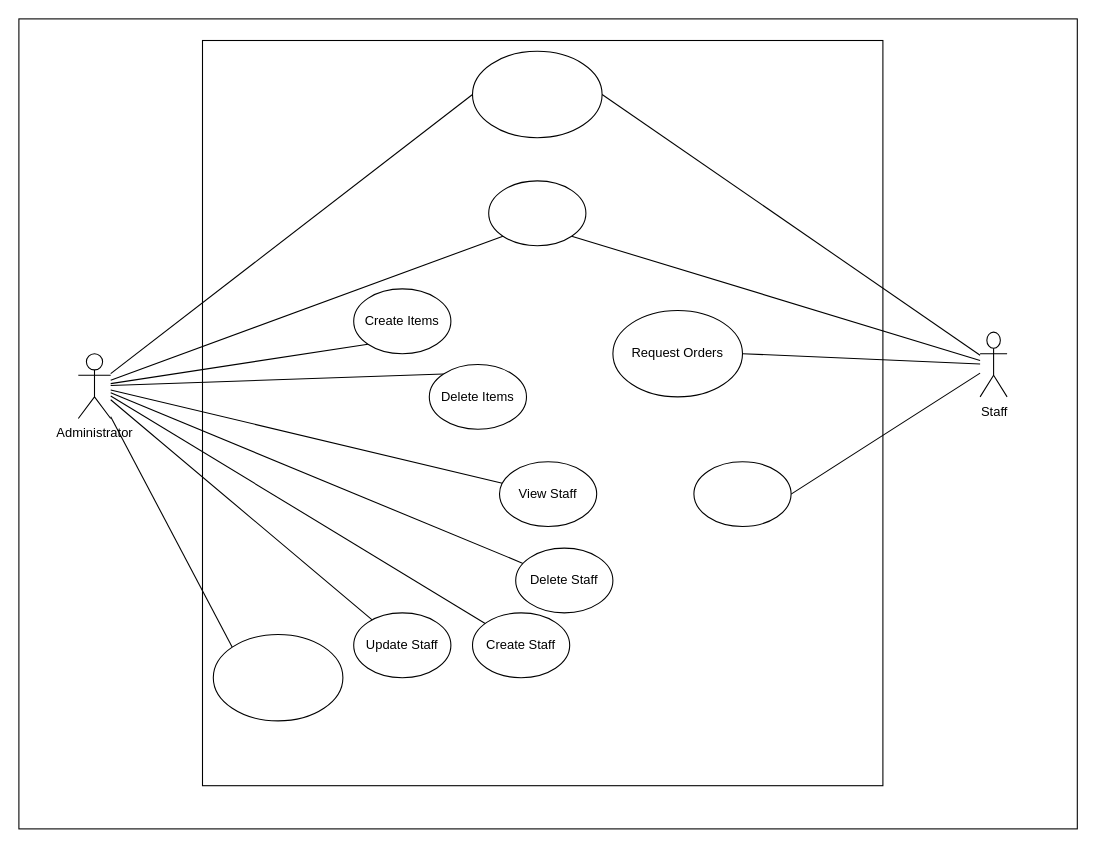
The diagram is 1096 pixels wide and 848 high, and some of its shapes have lost their labels. The shapes that lost their labels are listed below. From the top down, each one's centre as x and y in pixels, then its label:
point 536,94: Login
point 537,213: View Items
point 742,493: Update Items
point 277,677: Approve Orders
